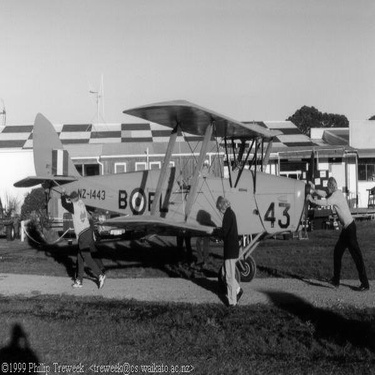airplane: (8, 92, 331, 317)
